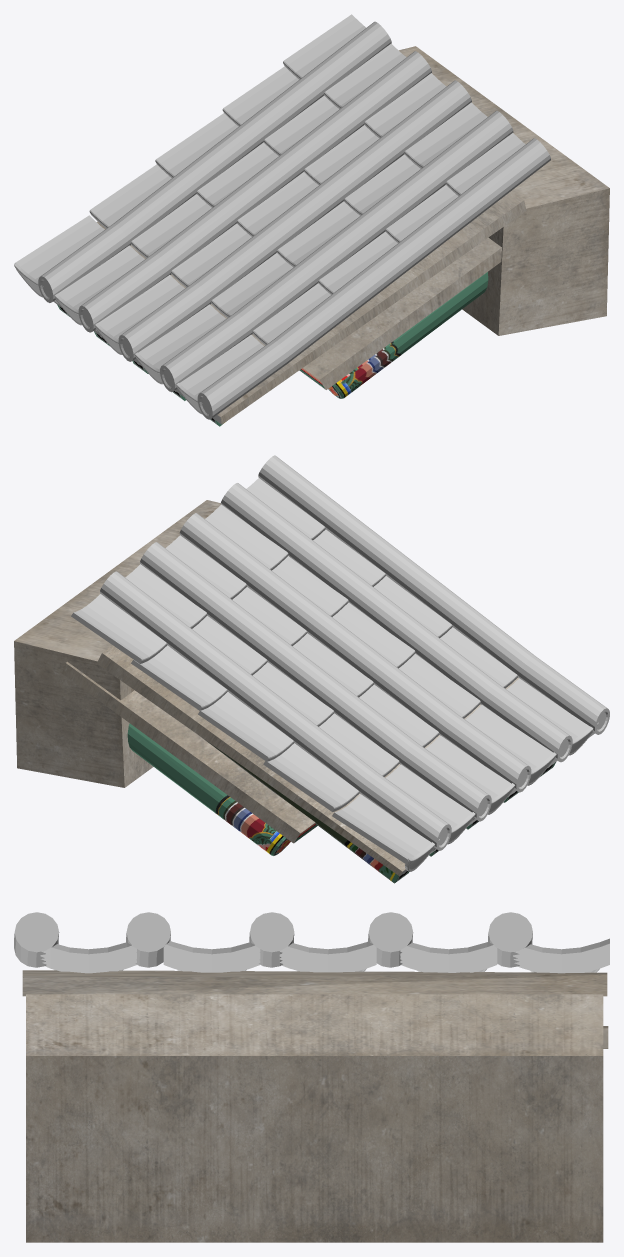
Rendered from SM_Roof_24.fbx.
3 renders of one model, top to bottom at view 1: azimuth 30°, elevation 25°; view 2: azimuth 150°, elevation 25°; view 3: azimuth 270°, elevation 25°, orthographic. The views are drawn at different scales.
Parts seen in each view (by area): view 1: SM_Roof_24; view 2: SM_Roof_24; view 3: SM_Roof_24.
Boxes of the visible parts, <box> form: SM_Roof_24: <box>14,14,609,426</box>; SM_Roof_24: <box>14,455,609,883</box>; SM_Roof_24: <box>14,912,609,1242</box>.
Bounding box in the file's own units: 352 × 304 × 189.
